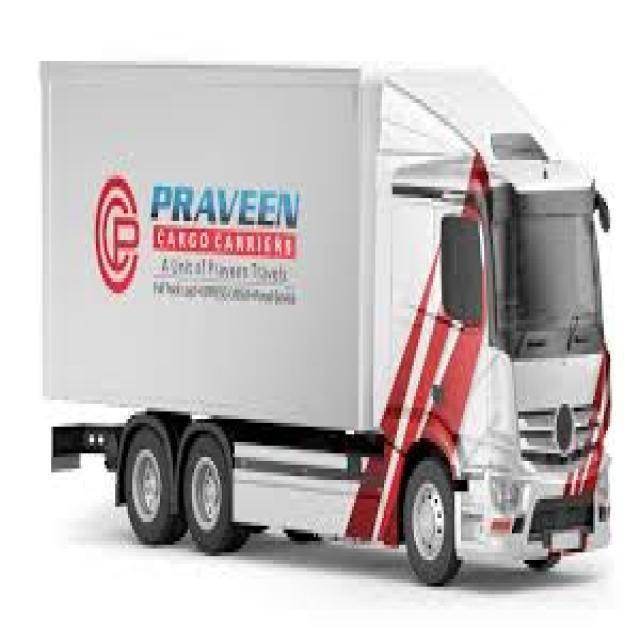covered: (38, 53, 614, 583)
